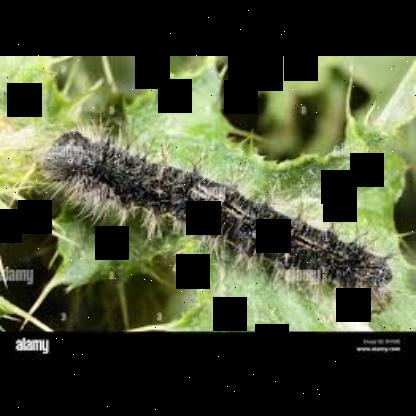oruga: (38, 121, 398, 305)
